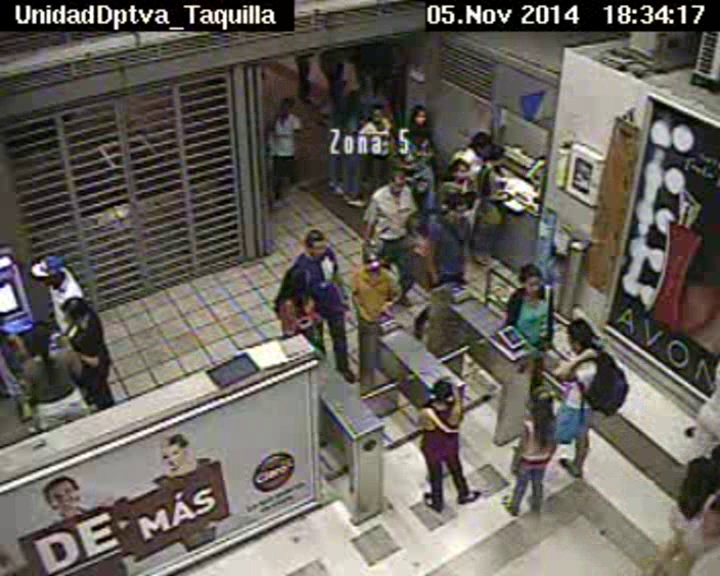person: (35, 253, 66, 287), (565, 319, 597, 351), (283, 264, 314, 296), (26, 321, 56, 354), (692, 503, 720, 538), (528, 385, 557, 418), (685, 457, 714, 490), (60, 295, 90, 326), (359, 246, 387, 276), (518, 262, 544, 293), (444, 193, 469, 220), (304, 230, 328, 258), (447, 158, 471, 182), (431, 378, 454, 403), (385, 168, 408, 193), (482, 144, 506, 167), (408, 104, 430, 127), (472, 129, 493, 152), (366, 105, 387, 127), (276, 96, 295, 116), (363, 74, 382, 94), (330, 82, 348, 99), (346, 91, 360, 111)
